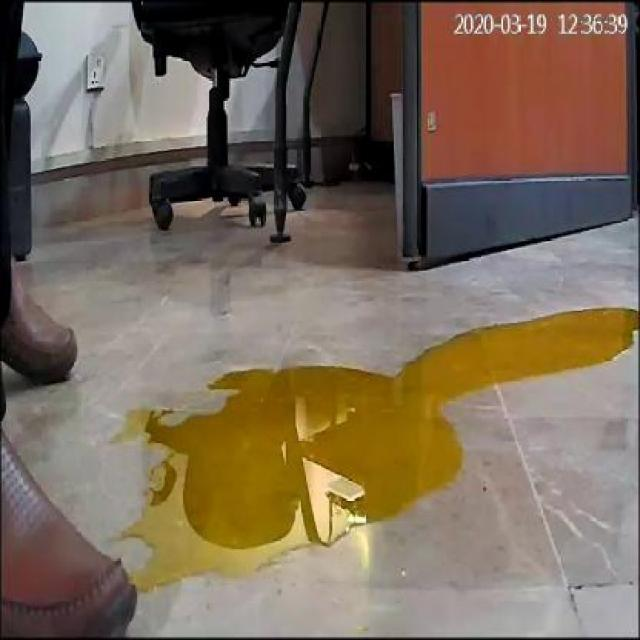spill: (130, 308, 636, 580)
